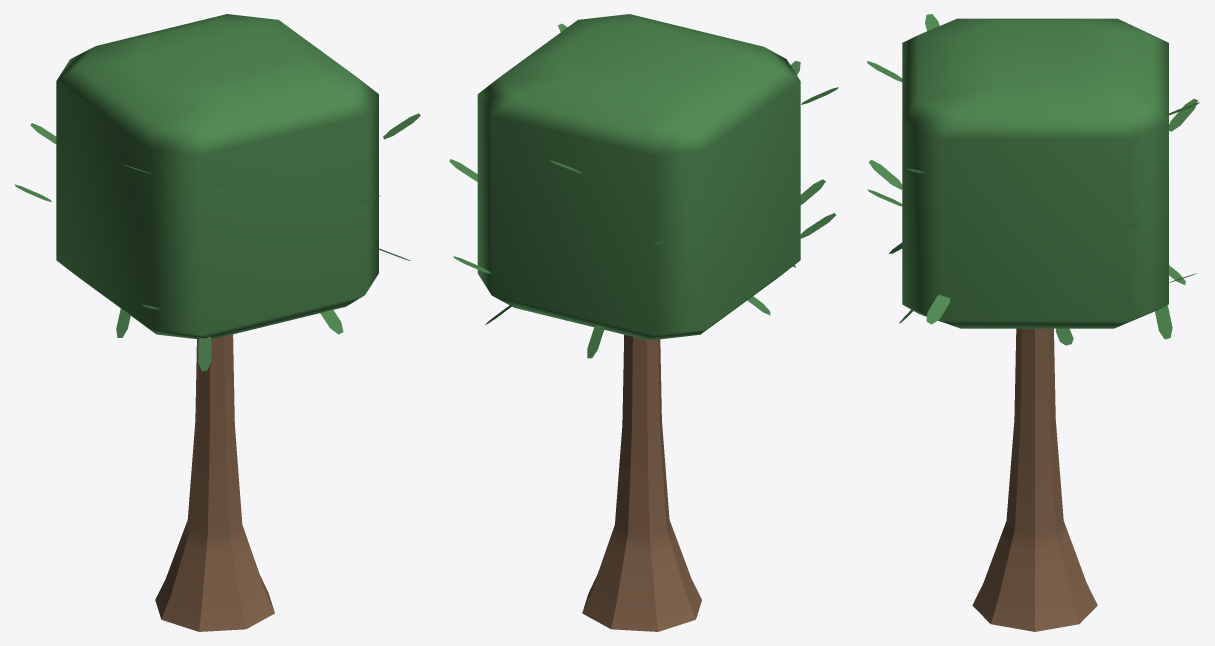
File: TreeNormal.fbx
3 views of the same model, side by side, from view 1: azimuth 30°, elevation 25°; view 2: azimuth 150°, elevation 25°; view 3: azimuth 270°, elevation 25° (orthographic).
Parts seen in each view (by area): view 1: pCylinder79; view 2: pCylinder79; view 3: pCylinder79.
Boxes of the visible parts, <box> form: pCylinder79: <box>14,14,420,631</box>; pCylinder79: <box>449,14,838,631</box>; pCylinder79: <box>867,14,1199,631</box>.
Size of the model in its own units: 1.7 by 3.08 by 1.68.
